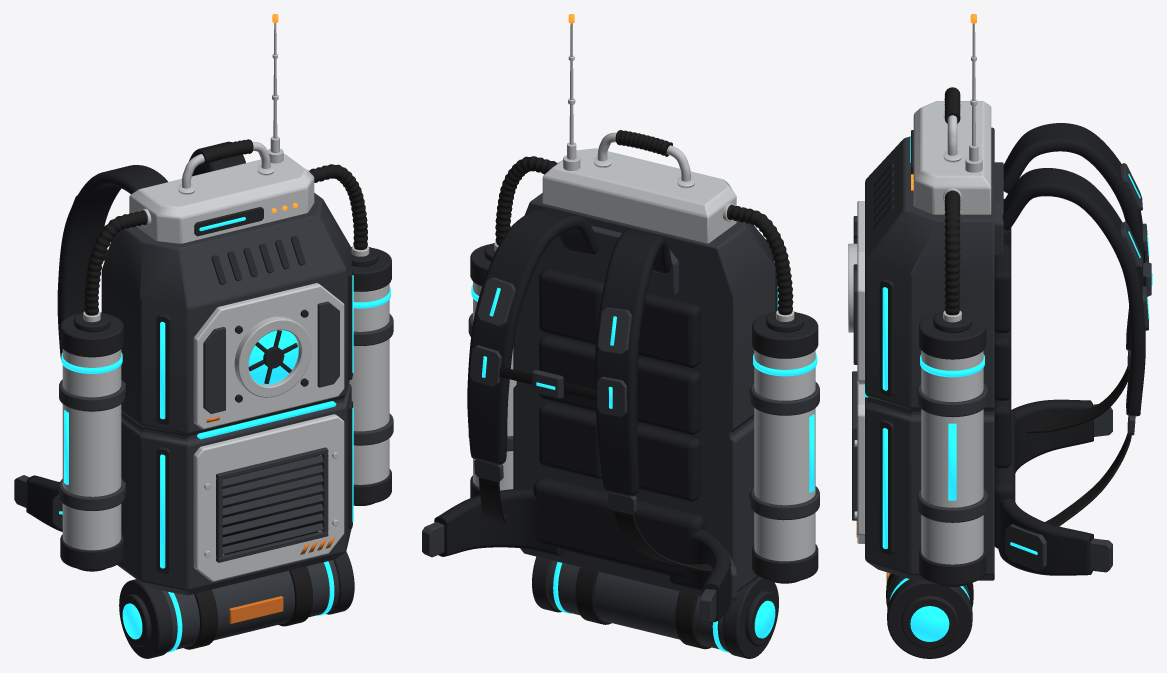
Rendered from Plecak_SciFi_Duzy.glb.
3 renders of one model, left to right at view 1: azimuth 30°, elevation 25°; view 2: azimuth 150°, elevation 25°; view 3: azimuth 270°, elevation 25°, orthographic. The views are drawn at different scales.
Visible parts, largest first — view 1: Duzy_Korpus, Duzy_Plyty_Przod, Duzy_Zbiornik, Duzy_Modul_Gorny, Duzy_Kratka, Duzy_Szelka, Duzy_Zbiornik_Dekle, Duzy_Kapsula, Duzy_Kapsula_Dekle, Duzy_Nakladki, Duzy_Listwa, Duzy_Waz (+18 smaller); view 2: Duzy_Korpus, Duzy_Plecy_Poduszki, Duzy_Szelka, Duzy_Zbiornik, Duzy_Modul_Gorny, Duzy_Plecy_Ledzwie, Duzy_Pas_Biodrowy, Duzy_Kapsula, Duzy_Zbiornik_Dekle, Duzy_Szelka_Plytki, Duzy_Kapsula_Dekle, Duzy_Waz (+13 smaller); view 3: Duzy_Korpus, Duzy_Szelka, Duzy_Zbiornik, Duzy_Modul_Gorny, Duzy_Pas_Biodrowy, Duzy_Kapsula_Dekle, Duzy_Zbiornik_Dekle, Duzy_Plecy_Poduszki, Duzy_Plyty_Przod, Duzy_Pas_Biodrowy_Plytki, Duzy_Listwa, Duzy_Tasma (+15 smaller).
Boxes of the visible parts, x1=… form: Duzy_Korpus: x1=101, y1=193, x2=351, y2=595; Duzy_Plyty_Przod: x1=193, y1=283, x2=344, y2=581; Duzy_Zbiornik: x1=62, y1=283, x2=389, y2=550; Duzy_Modul_Gorny: x1=129, y1=154, x2=314, y2=243; Duzy_Kratka: x1=216, y1=447, x2=328, y2=562; Duzy_Szelka: x1=57, y1=141, x2=245, y2=359; Duzy_Zbiornik_Dekle: x1=60, y1=247, x2=391, y2=571; Duzy_Kapsula: x1=162, y1=560, x2=339, y2=651; Duzy_Kapsula_Dekle: x1=119, y1=551, x2=354, y2=658; Duzy_Nakladki: x1=203, y1=301, x2=339, y2=413; Duzy_Listwa: x1=156, y1=268, x2=352, y2=573; Duzy_Waz: x1=84, y1=164, x2=367, y2=315; Duzy_Korpus: x1=513, y1=193, x2=775, y2=596; Duzy_Plecy_Poduszki: x1=539, y1=269, x2=700, y2=501; Duzy_Szelka: x1=467, y1=208, x2=671, y2=496; Duzy_Zbiornik: x1=473, y1=281, x2=815, y2=561; Duzy_Modul_Gorny: x1=542, y1=148, x2=736, y2=243; Duzy_Plecy_Ledzwie: x1=533, y1=477, x2=704, y2=577; Duzy_Pas_Biodrowy: x1=434, y1=488, x2=730, y2=622; Duzy_Kapsula: x1=548, y1=560, x2=727, y2=651; Duzy_Zbiornik_Dekle: x1=470, y1=243, x2=818, y2=583; Duzy_Szelka_Plytki: x1=469, y1=277, x2=632, y2=416; Duzy_Kapsula_Dekle: x1=532, y1=556, x2=778, y2=658; Duzy_Waz: x1=495, y1=156, x2=793, y2=315; Duzy_Korpus: x1=865, y1=127, x2=994, y2=580; Duzy_Szelka: x1=1002, y1=123, x2=1145, y2=416; Duzy_Zbiornik: x1=921, y1=350, x2=983, y2=564; Duzy_Modul_Gorny: x1=913, y1=101, x2=991, y2=214; Duzy_Pas_Biodrowy: x1=998, y1=399, x2=1093, y2=575; Duzy_Kapsula_Dekle: x1=887, y1=579, x2=972, y2=658; Duzy_Zbiornik_Dekle: x1=919, y1=311, x2=986, y2=586; Duzy_Plecy_Poduszki: x1=994, y1=199, x2=1011, y2=468; Duzy_Plyty_Przod: x1=857, y1=201, x2=864, y2=543; Duzy_Pas_Biodrowy_Plytki: x1=1005, y1=404, x2=1112, y2=572; Duzy_Listwa: x1=879, y1=279, x2=893, y2=555; Duzy_Tasma: x1=1026, y1=366, x2=1131, y2=526.
Bounding box in the file's own units: 0.617 × 1.06 × 0.47.
